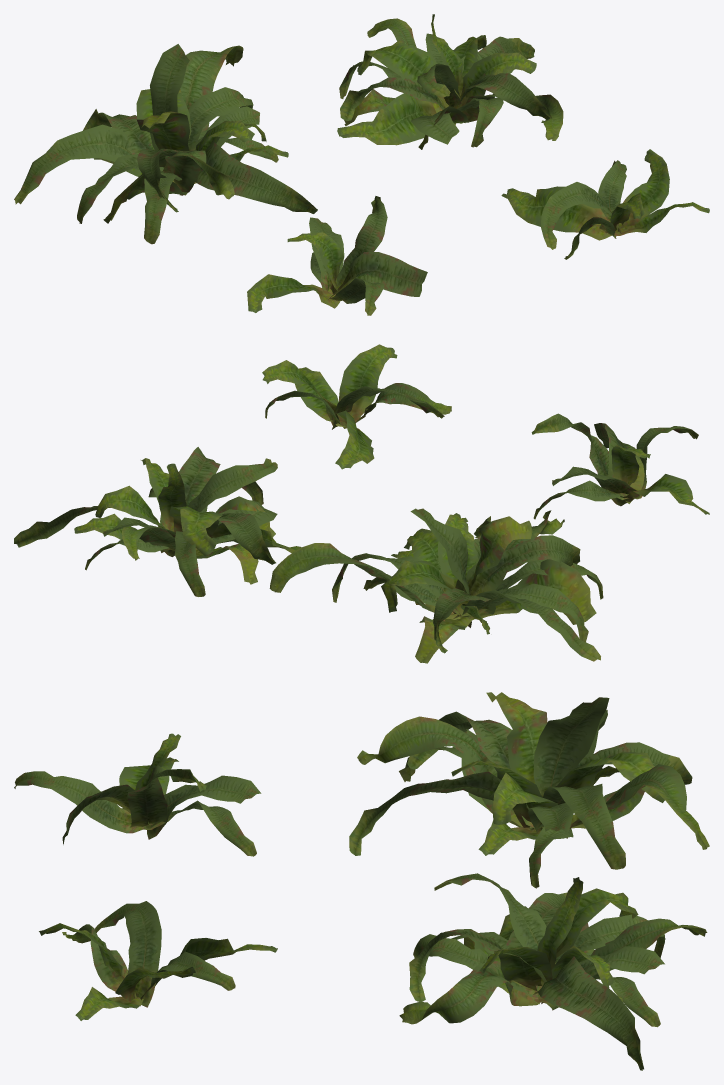
The model's file is fern_02.glb.
The picture shows the model from 3 angles, top to bottom: view 1: azimuth 30°, elevation 25°; view 2: azimuth 150°, elevation 25°; view 3: azimuth 270°, elevation 25°; orthographic projection. The views are drawn at different scales.
Visible parts, largest first — view 1: fern_02_b; view 2: fern_02_b; view 3: fern_02_b.
Boxes of the visible parts, x1=… form: fern_02_b: x1=14, y1=14, x2=709, y2=315; fern_02_b: x1=14, y1=344, x2=709, y2=663; fern_02_b: x1=14, y1=692, x2=709, y2=1070.
Bounding box in the file's own units: 1.97 × 0.4277 × 1.72.
1 material, 1 textured.
